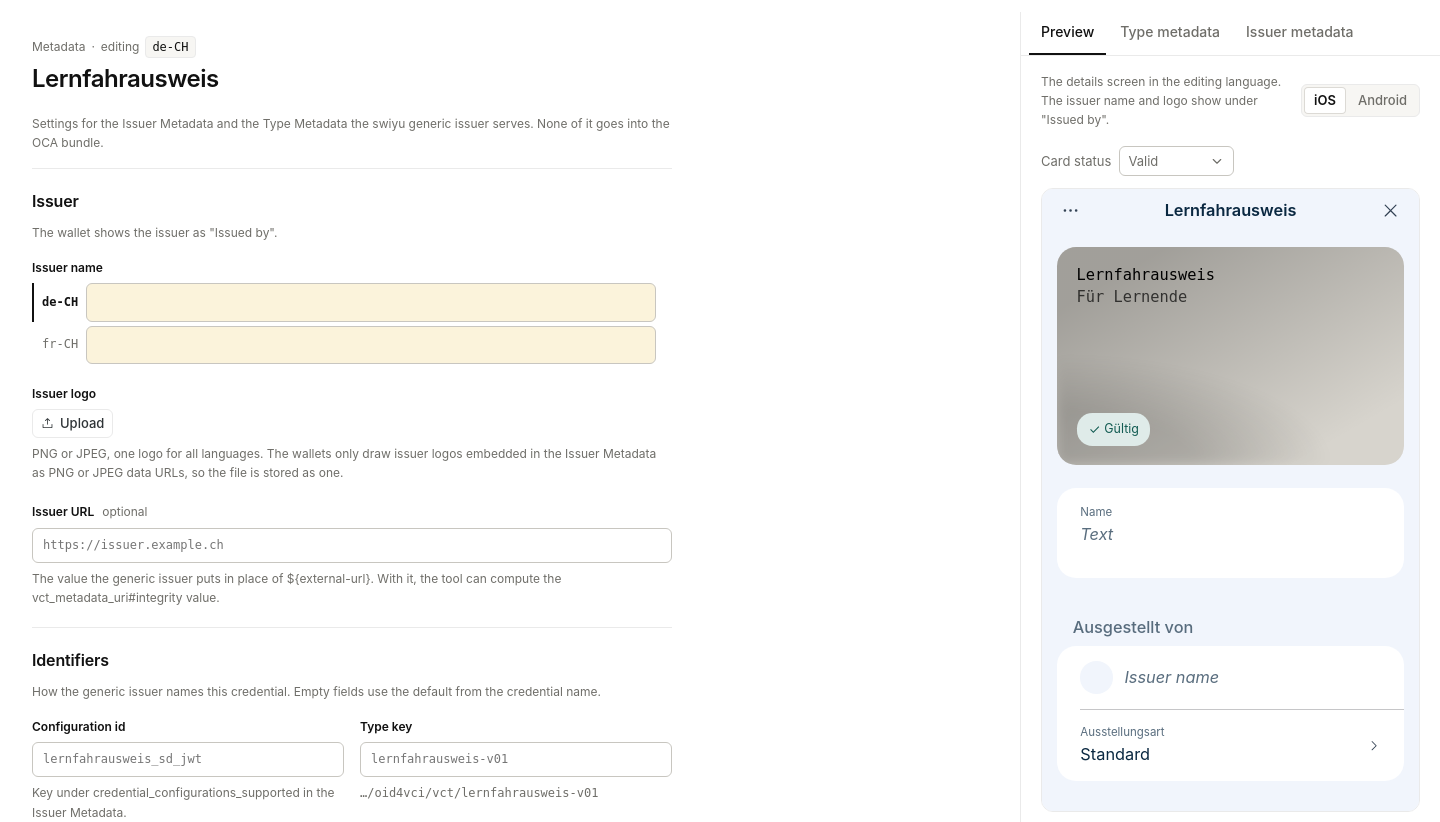
Metadata page › shows the defaults from the credential name in empty identifiers and the Type Metadata path
Expected: the field labelled "Configuration id" is empty, x1=32 y1=742 x2=344 y2=777
Type "lfa-v02" into the field labelled "Type key" at (516, 760), box x1=360 y1=742 x2=672 y2=777
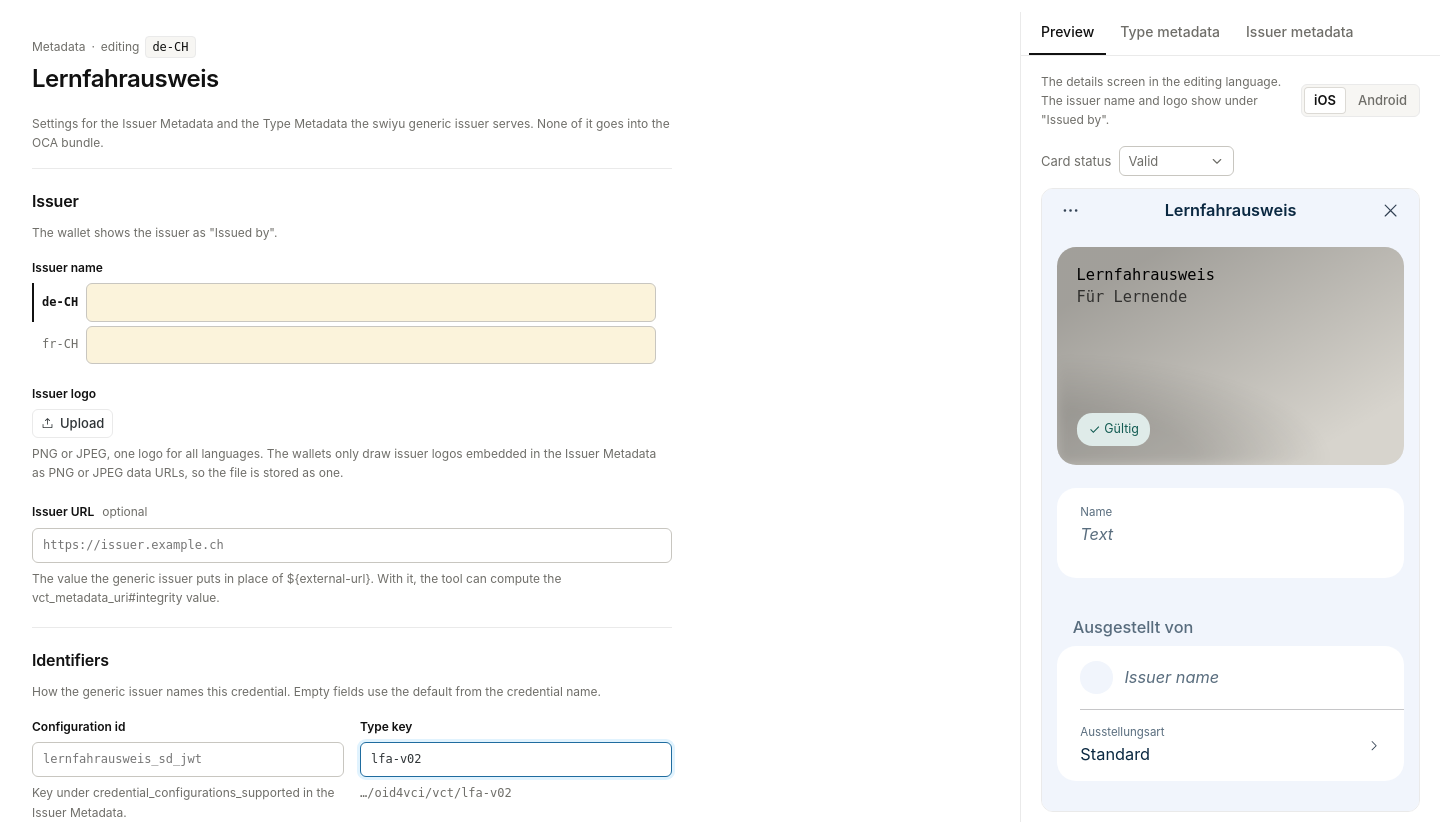
Now the text "…/oid4vci/vct/lfa-v02" is shown, box x1=360 y1=786 x2=512 y2=800
Clear the field labelled "Type key" at (516, 760), box x1=360 y1=742 x2=672 y2=777
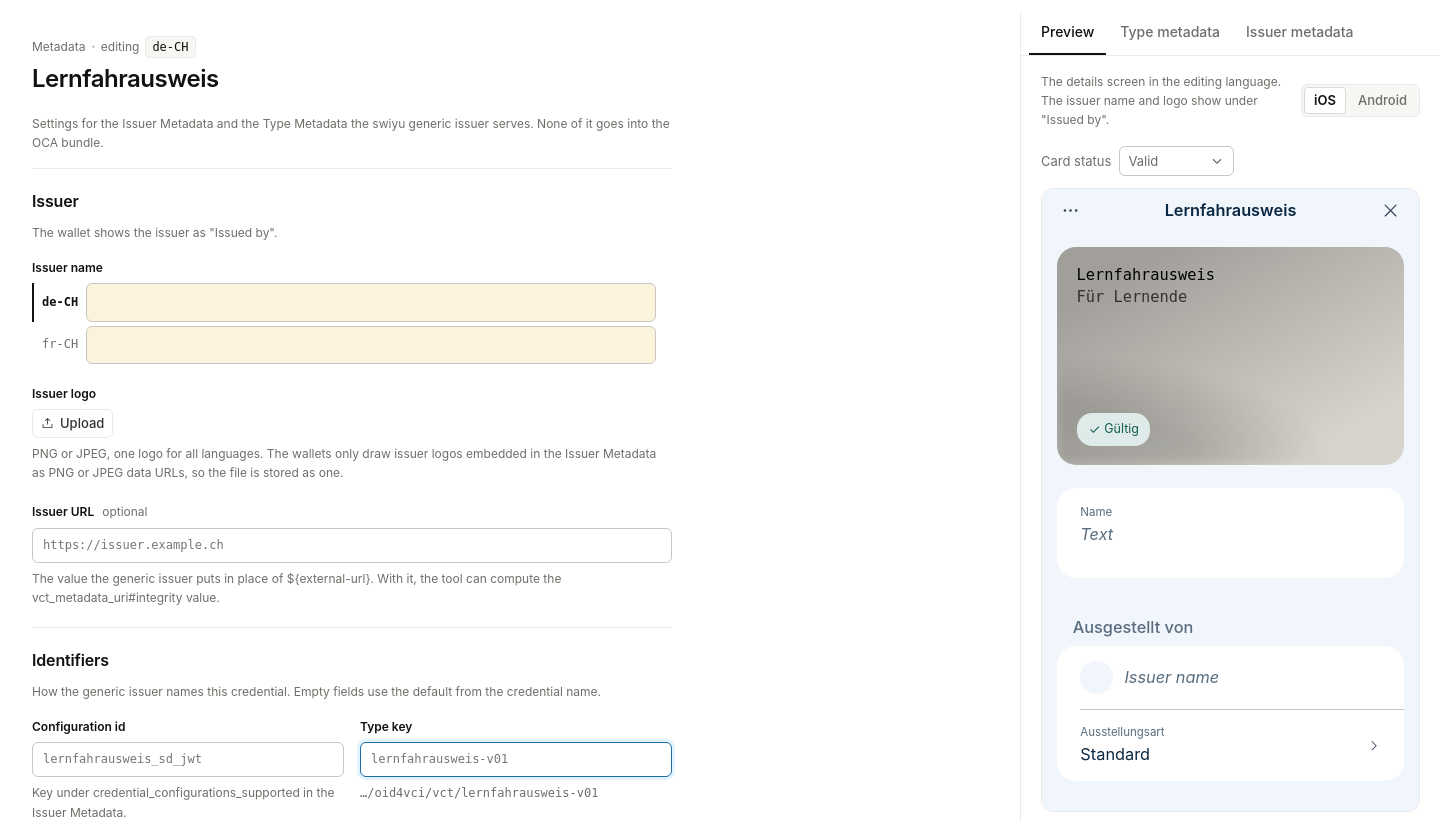
Now the text "…/oid4vci/vct/lernfahrausweis-v01" is shown, box x1=360 y1=786 x2=598 y2=800
